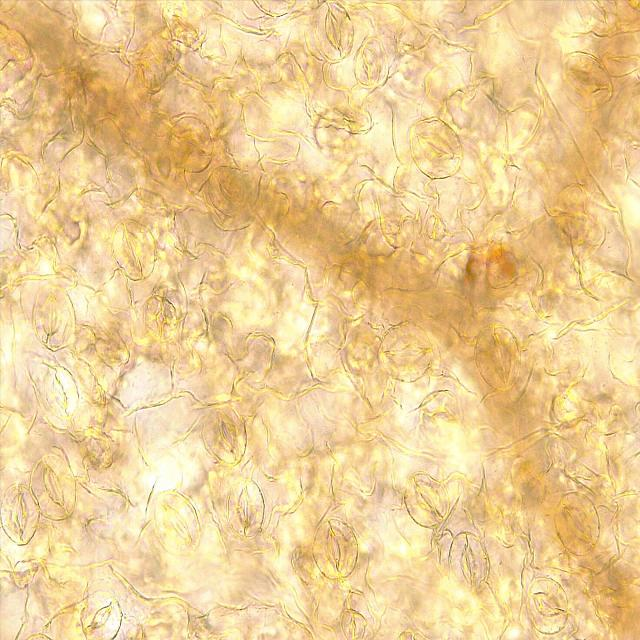Stomata: (408, 116, 463, 180), (473, 323, 522, 393), (558, 51, 614, 112), (28, 453, 78, 521), (378, 320, 432, 382), (154, 489, 201, 556), (554, 491, 601, 557), (202, 404, 248, 466), (33, 284, 76, 350), (313, 517, 358, 580), (112, 219, 157, 281), (402, 470, 450, 528), (168, 114, 214, 174), (312, 0, 354, 63), (448, 531, 490, 592), (0, 485, 41, 546), (227, 477, 266, 539), (528, 577, 569, 635), (418, 389, 463, 441), (79, 590, 122, 640), (43, 364, 80, 420), (208, 165, 248, 216), (144, 294, 178, 342), (353, 46, 379, 88)
